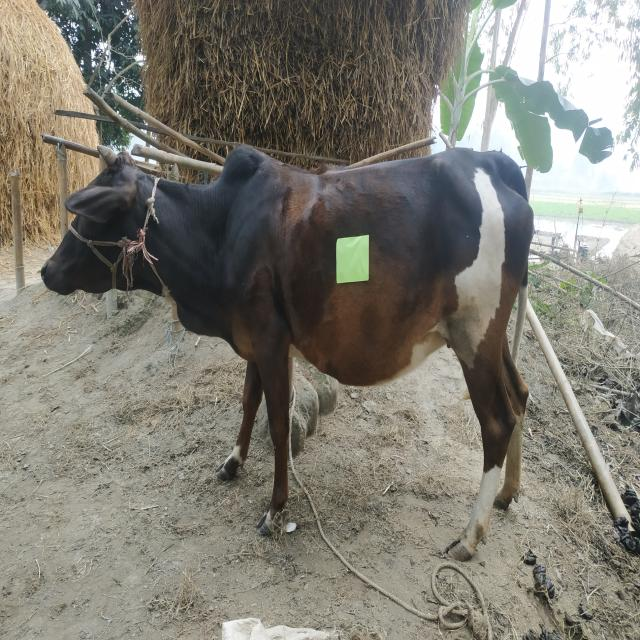badan_sapi: (228, 146, 530, 391)
sapi: (36, 141, 538, 567)
